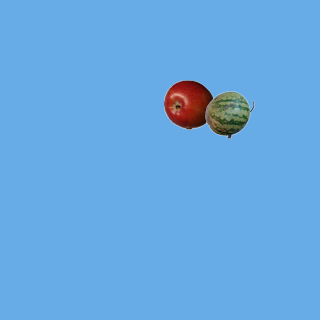Apple Braeburn: (163, 79, 213, 129)
Watermelon: (204, 89, 254, 139)
